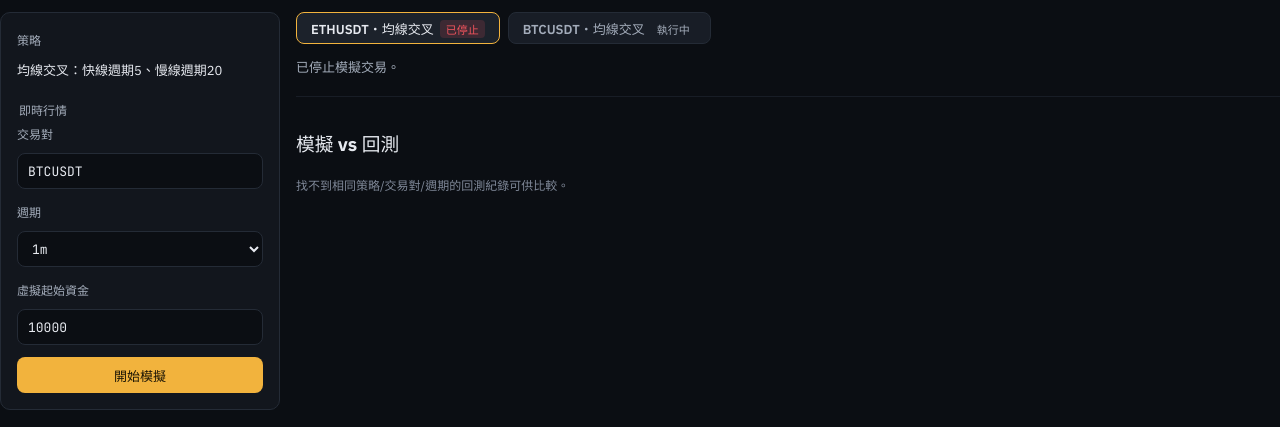
PaperTrading › 有多場模擬交易時顯示分頁，切換分頁會換掉顯示的那一場
This screenshot has width=1280, height=427.
Expected: the element named "模擬交易場次" is shown, x1=296 y1=12 x2=711 y2=44
Expected: the text "已停止模擬交易。" is shown, x1=296 y1=59 x2=400 y2=76
Step 1. Click the tab "BTCUSDT・均線交叉 執行中" → (609, 28), box x1=508 y1=12 x2=711 y2=44
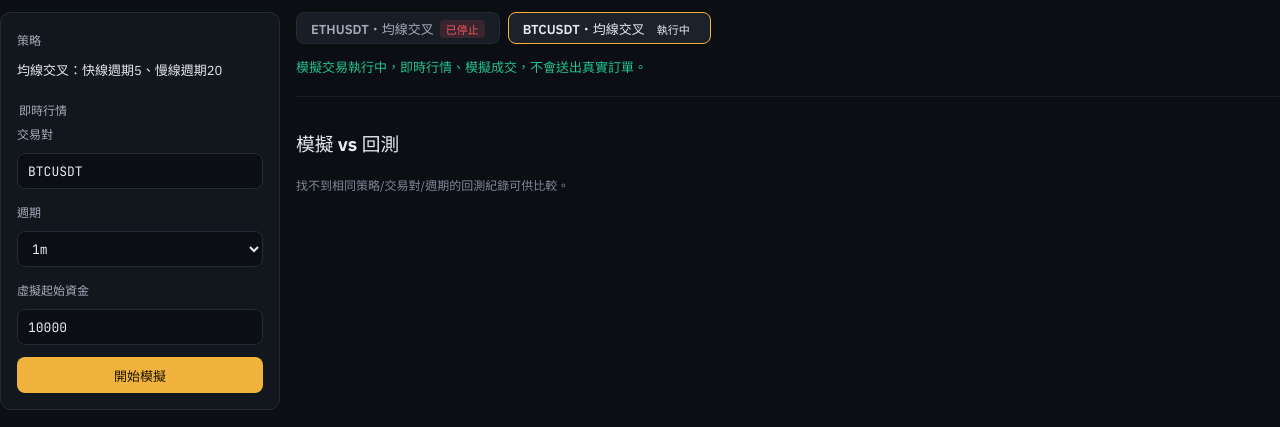
Expected: the message shows "模擬交易執行中", x1=296 y1=59 x2=647 y2=76
